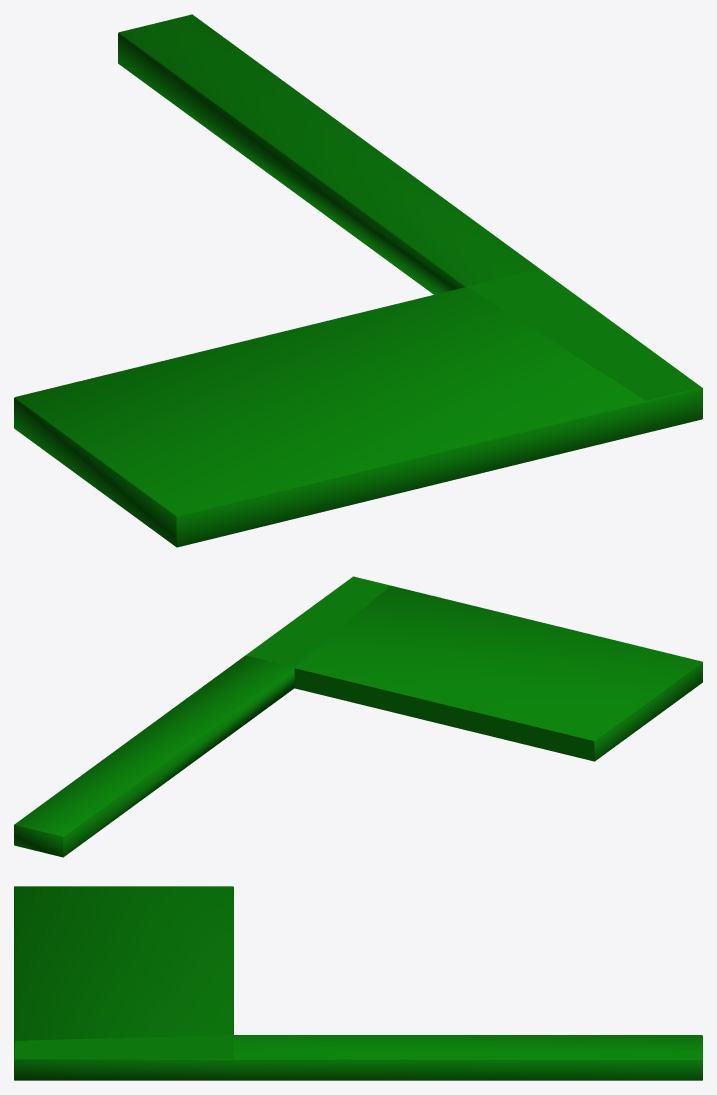
The model's file is W1_Plafond_Salle_2_2.fbx.
3 renders of one model, top to bottom at view 1: azimuth 30°, elevation 25°; view 2: azimuth 150°, elevation 25°; view 3: azimuth 270°, elevation 25°, orthographic. The views are drawn at different scales.
Parts seen in each view (by area): view 1: W1_Plafond_Salle_2_2; view 2: W1_Plafond_Salle_2_2; view 3: W1_Plafond_Salle_2_2.
Part boxes in pixels (x1=…): W1_Plafond_Salle_2_2: x1=14, y1=14, x2=702, y2=547; W1_Plafond_Salle_2_2: x1=14, y1=576, x2=702, y2=857; W1_Plafond_Salle_2_2: x1=14, y1=886, x2=702, y2=1080.
Bounding box in the file's own units: 2800 × 163 × 4700.
